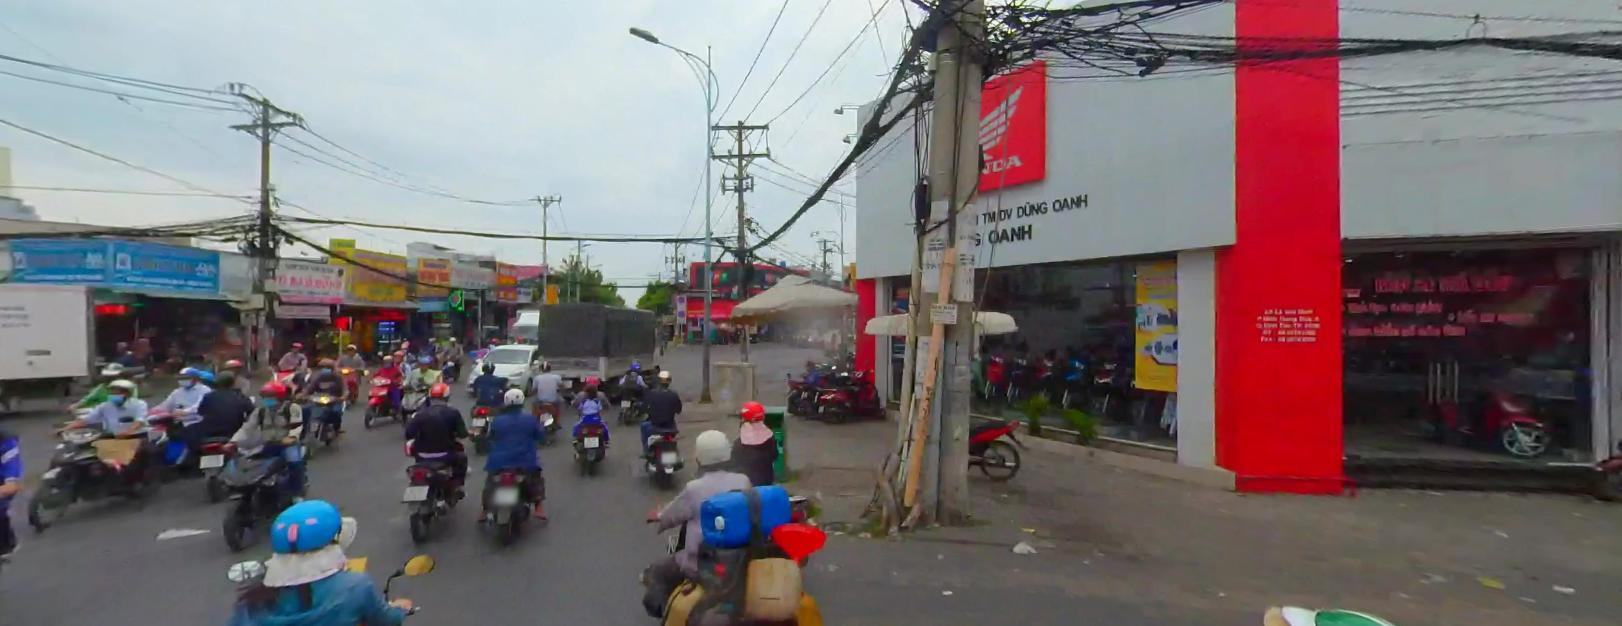Cam dung va do: (678, 309, 685, 317), (677, 294, 684, 300)
